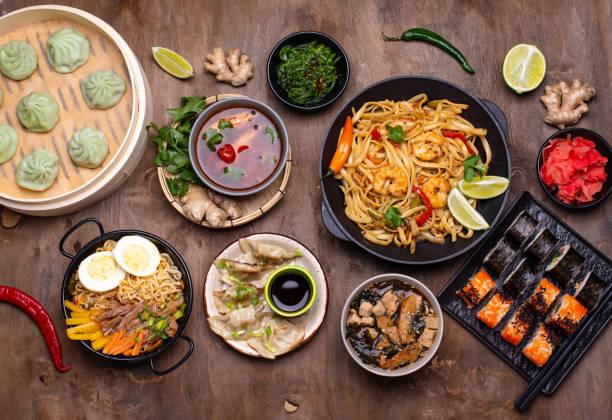Braised Crucian Carp: (433, 191, 612, 407), (317, 75, 507, 264), (2, 5, 152, 217), (57, 221, 194, 369), (203, 232, 327, 359), (340, 272, 442, 377), (188, 95, 287, 197)
